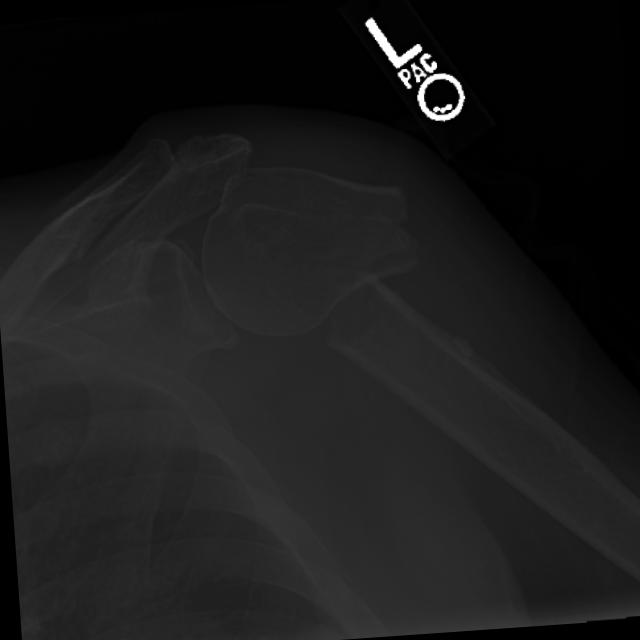shoulder fracture: (285, 140, 473, 426), (18, 149, 169, 281)
